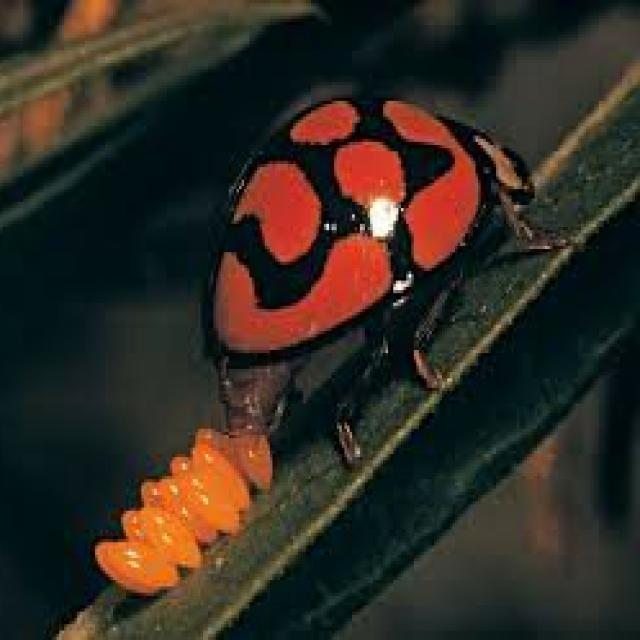ladybug: (203, 98, 563, 460)
